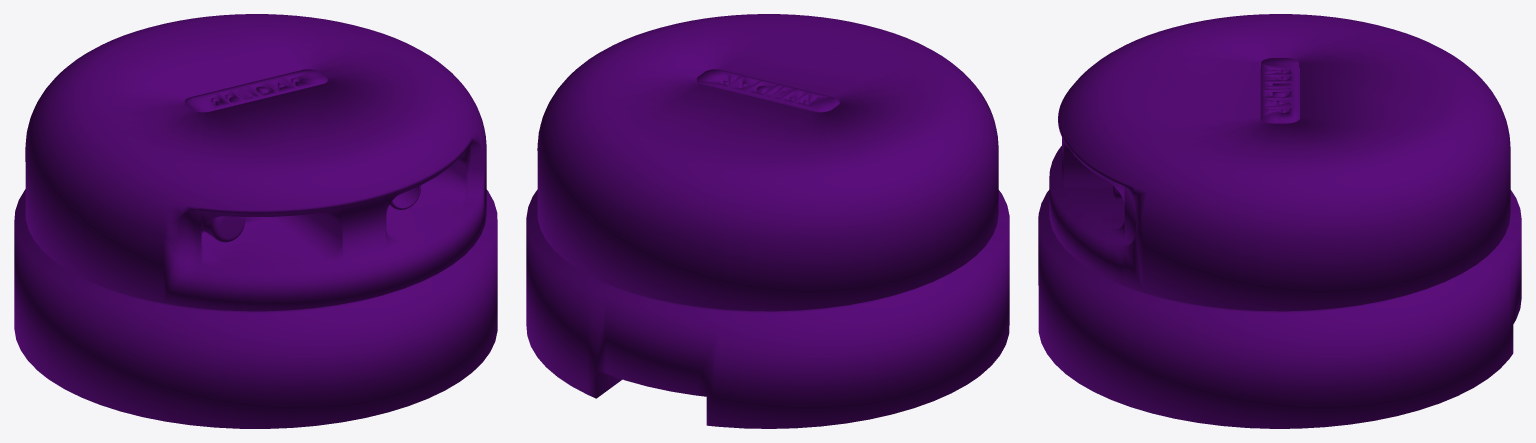
Rendered from rplidar.dae.
3 renders of one model, left to right at view 1: azimuth 30°, elevation 25°; view 2: azimuth 150°, elevation 25°; view 3: azimuth 270°, elevation 25°, orthographic.
Parts seen in each view (by area): view 1: Intel-Realsense-RPLIDAR-A2; view 2: Intel-Realsense-RPLIDAR-A2; view 3: Intel-Realsense-RPLIDAR-A2.
Part boxes in pixels (<box>): Intel-Realsense-RPLIDAR-A2: <box>14,14,497,428</box>; Intel-Realsense-RPLIDAR-A2: <box>526,14,1009,428</box>; Intel-Realsense-RPLIDAR-A2: <box>1038,14,1521,428</box>.
Bounding box in the file's own units: 0.076 × 0.076 × 0.041.
